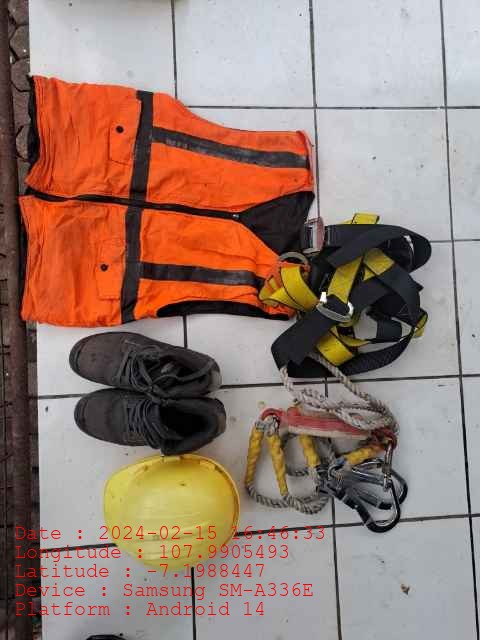ROMPI: (23, 77, 310, 324)
SEPATU: (67, 330, 225, 456)
TAMBANG_SLING: (239, 380, 408, 525)
